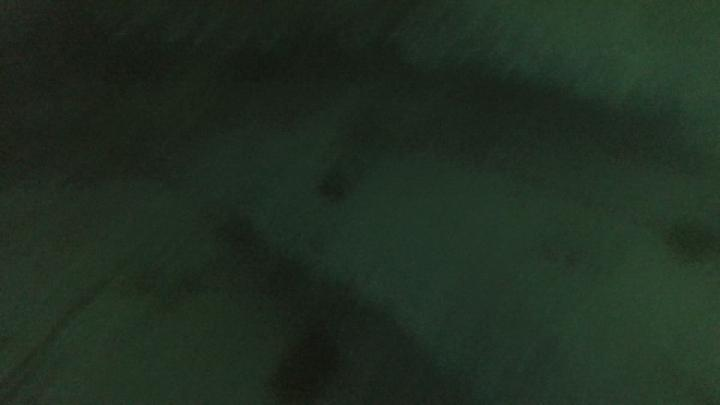echinus: (268, 337, 351, 405)
